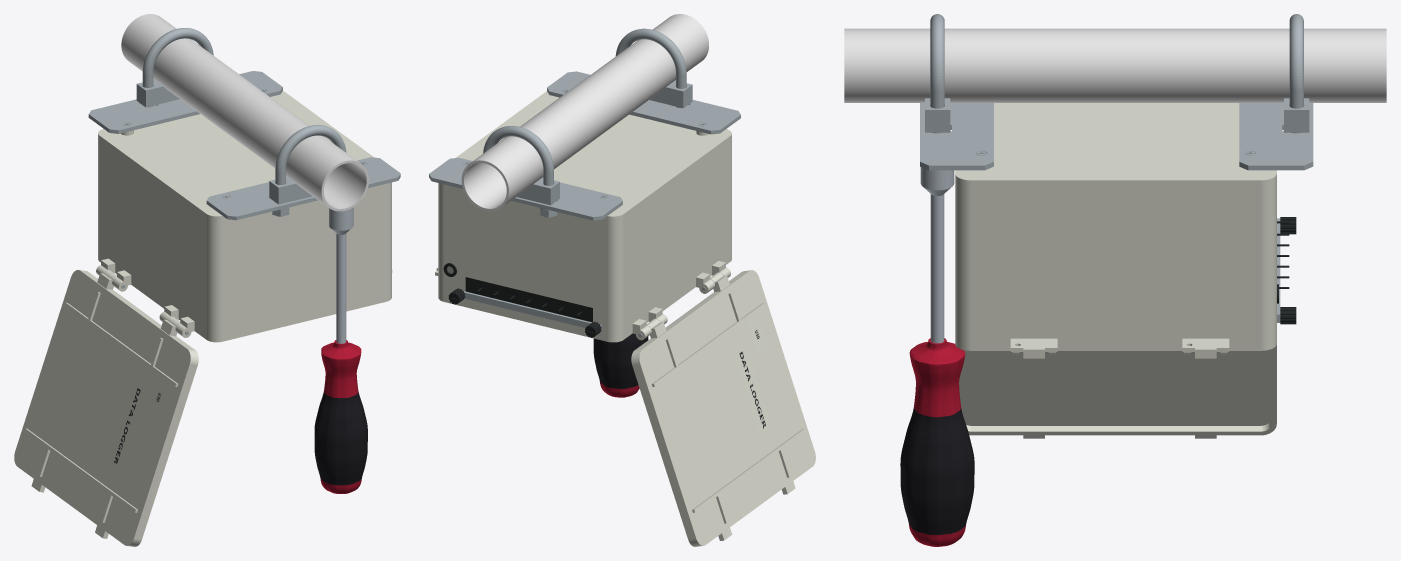
The model's file is wiha_34143_u30_2_fit.glb.
3 views of the same model, side by side, from view 1: azimuth 30°, elevation 25°; view 2: azimuth 150°, elevation 25°; view 3: azimuth 270°, elevation 25° (orthographic). The views are drawn at different scales.
Parts seen in each view (by area): view 1: outer_case, hinged_door, selected_mast_fixture, tool_black_soft_grip, mount_1_plate, mount_2_plate, tool_red_molded_core, tool_steel_shaft_and_blind_socket, device_text, mount_1_u_bolt, mount_2_u_bolt, mount_1_saddle (+1 smaller); view 2: outer_case, hinged_door, selected_mast_fixture, mount_2_plate, mount_1_plate, tool_black_soft_grip, primary_split_rubber_channel, device_text, mount_2_u_bolt, mount_1_u_bolt, primary_channel_retaining_bar, mount_2_saddle (+1 smaller); view 3: outer_case, selected_mast_fixture, hinged_door, tool_black_soft_grip, mount_1_plate, mount_2_plate, tool_red_molded_core, tool_steel_shaft_and_blind_socket, mount_1_u_bolt, mount_2_u_bolt, latch_clasp_1, latch_clasp_2 (+2 smaller).
Boxes of the visible parts, x1,y1,x2,y2 form: outer_case: (96, 91, 391, 342); hinged_door: (14, 270, 198, 546); selected_mast_fixture: (121, 14, 368, 211); tool_black_soft_grip: (314, 391, 367, 485); mount_1_plate: (88, 71, 282, 133); mount_2_plate: (206, 157, 400, 220); tool_red_molded_core: (320, 340, 361, 493); tool_steel_shaft_and_blind_socket: (329, 207, 353, 343); device_text: (108, 381, 145, 470); mount_1_u_bolt: (142, 28, 213, 107); mount_2_u_bolt: (275, 125, 346, 216); mount_1_saddle: (136, 79, 179, 107); outer_case: (438, 91, 731, 342); hinged_door: (631, 270, 815, 546); selected_mast_fixture: (461, 14, 708, 211); mount_2_plate: (547, 71, 740, 134); mount_1_plate: (429, 157, 622, 220); tool_black_soft_grip: (593, 333, 648, 388); primary_split_rubber_channel: (465, 277, 592, 322); device_text: (733, 345, 771, 434); mount_2_u_bolt: (615, 28, 686, 108); mount_1_u_bolt: (483, 125, 553, 217); primary_channel_retaining_bar: (464, 291, 601, 331); mount_2_saddle: (649, 80, 692, 108); outer_case: (955, 103, 1276, 350); selected_mast_fixture: (844, 28, 1386, 102); hinged_door: (959, 344, 1276, 438); tool_black_soft_grip: (900, 407, 974, 534); mount_1_plate: (1239, 103, 1313, 170); mount_2_plate: (920, 103, 993, 170); tool_red_molded_core: (909, 338, 965, 546); tool_steel_shaft_and_blind_socket: (920, 167, 954, 343); mount_1_u_bolt: (1289, 14, 1303, 133); mount_2_u_bolt: (930, 14, 944, 133); latch_clasp_1: (1182, 338, 1229, 358); latch_clasp_2: (1010, 338, 1057, 358).
Bounding box in the file's own units: 0.2489 × 0.3256 × 0.3.
27 materials, 6 textured.
